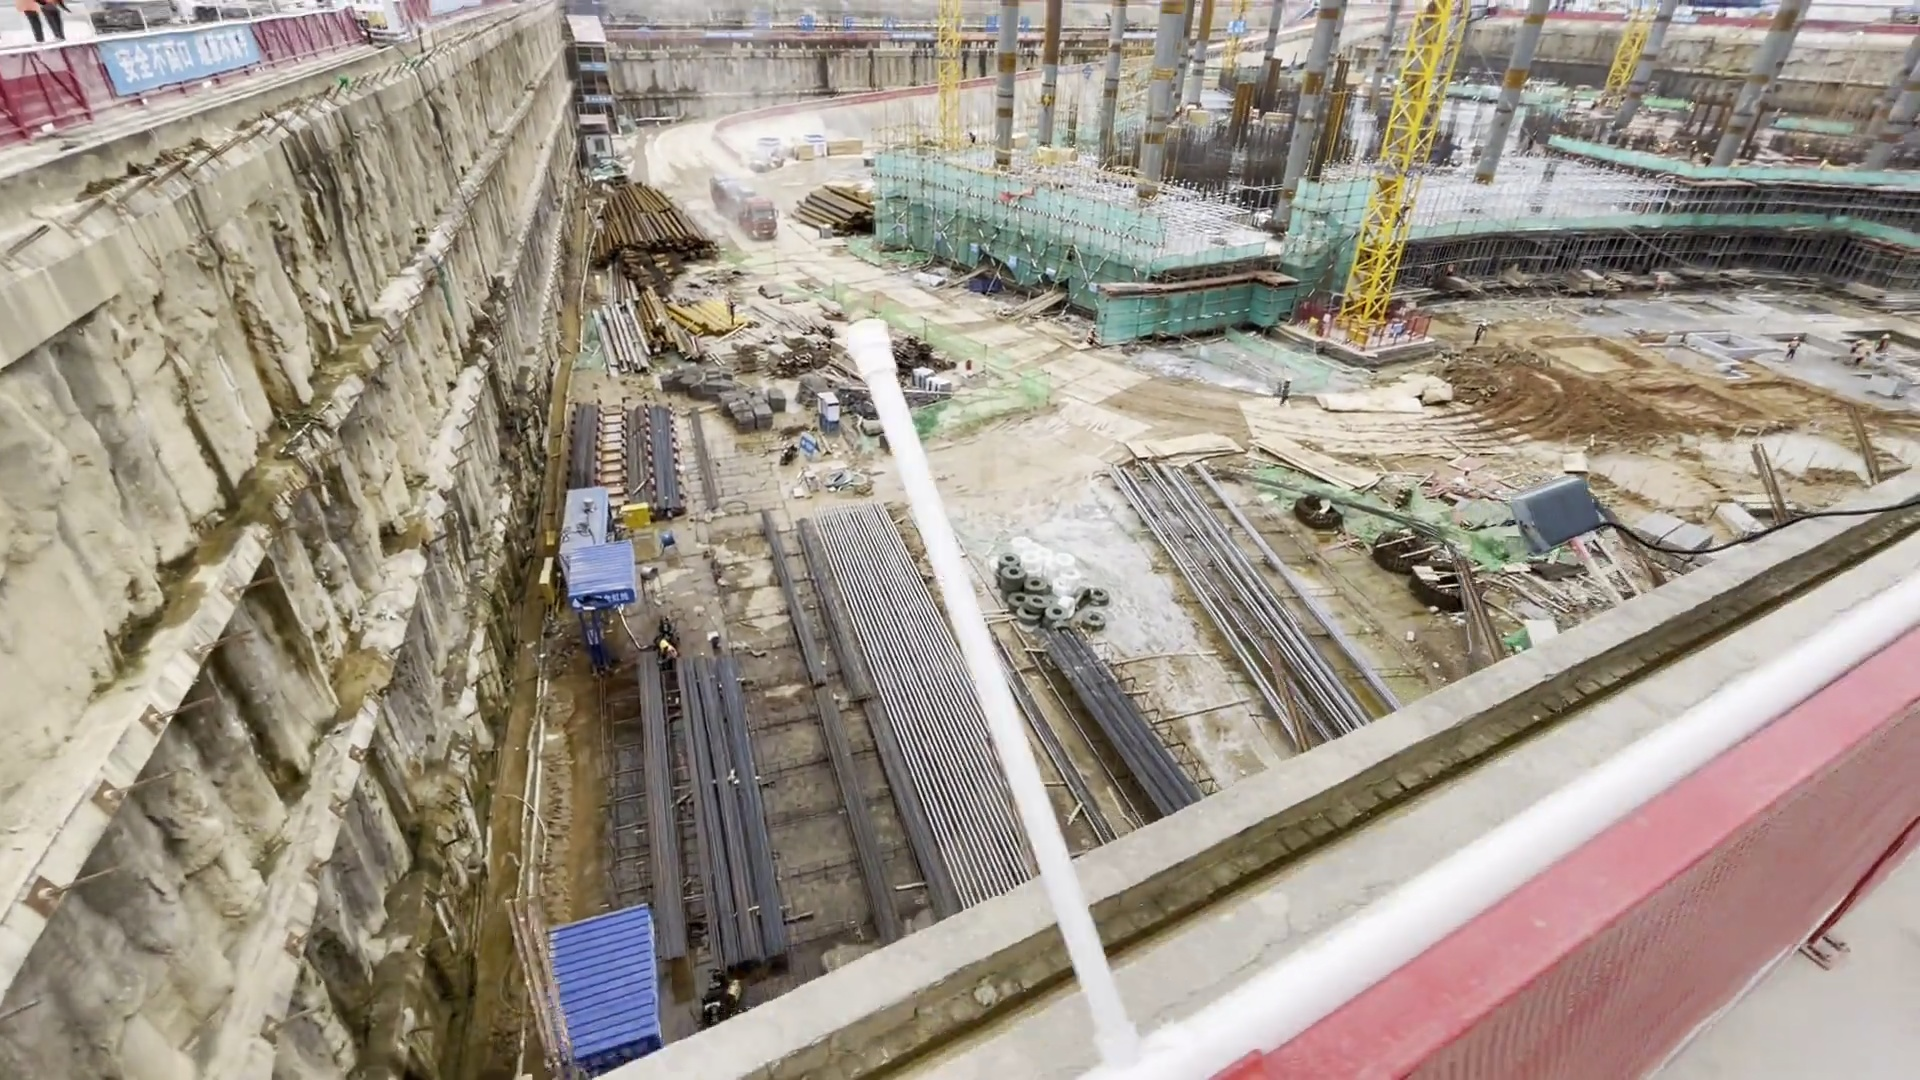brick: (1634, 497, 1703, 575), (910, 365, 950, 401)
ebox: (617, 499, 651, 533), (1343, 326, 1374, 355)
fence: (1478, 717, 1893, 1041), (6, 7, 367, 113)
helmet: (659, 639, 668, 650), (1283, 376, 1293, 382), (1480, 321, 1489, 327), (1792, 334, 1798, 340)
hopper: (967, 276, 1002, 293)
person: (1467, 314, 1494, 350), (657, 634, 680, 664), (1784, 334, 1805, 359), (724, 287, 739, 323), (1279, 372, 1292, 408)
rebar: (823, 683, 965, 935), (635, 664, 763, 936), (1055, 640, 1190, 817), (753, 513, 883, 696), (631, 411, 683, 503), (563, 406, 600, 482)
slogan: (91, 36, 281, 75), (755, 5, 905, 36), (568, 592, 638, 607)
vest: (668, 644, 679, 658)
wood: (892, 336, 949, 366)
